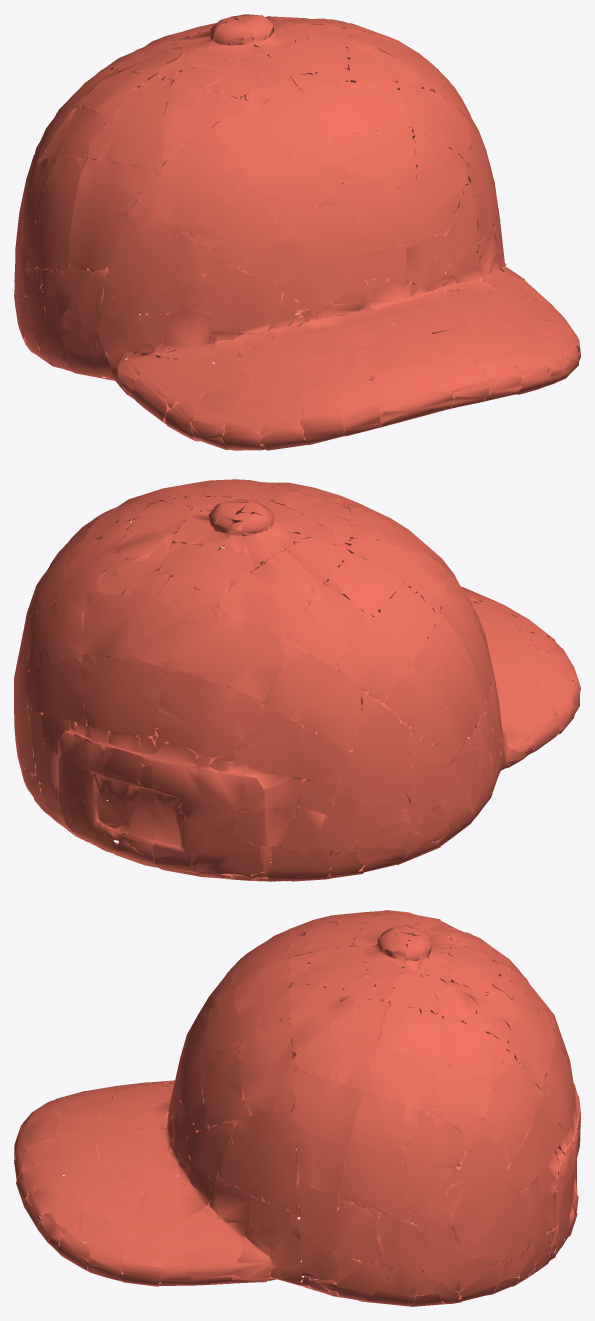
Rendered from hat_red_cap_v1.glb.
The picture shows the model from 3 angles, top to bottom: view 1: azimuth 30°, elevation 25°; view 2: azimuth 150°, elevation 25°; view 3: azimuth 270°, elevation 25°; orthographic projection. The views are drawn at different scales.
Visible parts, largest first — view 1: Mesh_0; view 2: Mesh_0; view 3: Mesh_0.
Boxes of the visible parts, box(x1,y1,x2,y2) form: Mesh_0: box(14, 14, 580, 450); Mesh_0: box(14, 479, 580, 881); Mesh_0: box(14, 910, 580, 1306).
Size of the model in its own units: 0.24 by 0.16 by 0.28.
